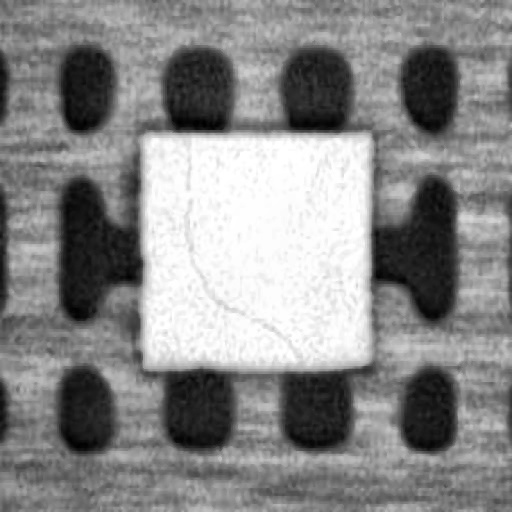DIE_CRACK: (181, 135, 297, 358)
